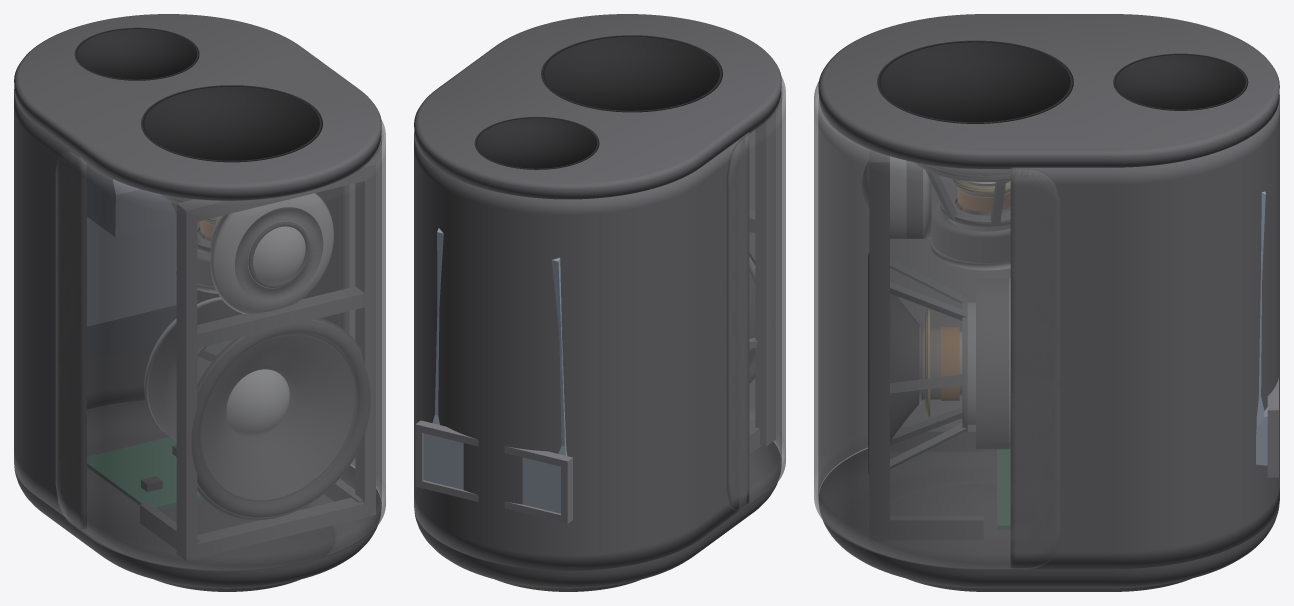
Rendered from bose.glb.
The picture shows the model from 3 angles, left to right: view 1: azimuth 30°, elevation 25°; view 2: azimuth 150°, elevation 25°; view 3: azimuth 270°, elevation 25°; orthographic projection. The views are drawn at different scales.
Visible parts, largest first — view 1: shell_front, top_cap, shell_back, baffle, plinth, woofer_cone, duct, top_grille, woofer_surround, top_controls, tweeter_waveguide, board_amp (+7 smaller); view 2: shell_back, top_cap, shell_front, top_grille, plinth, baffle, duct, top_controls, port_frame; view 3: shell_back, shell_front, top_cap, plinth, top_grille, baffle, top_controls, woofer_magnet, woofer_basket, tweeter_motor, woofer_cone, upfire_magnet (+9 smaller).
Boxes of the visible parts, bbox=[...] form: shell_front: bbox=[55, 120, 385, 571]; top_cap: bbox=[14, 14, 381, 200]; shell_back: bbox=[14, 89, 348, 529]; baffle: bbox=[140, 160, 375, 560]; plinth: bbox=[14, 400, 381, 591]; woofer_cone: bbox=[201, 335, 354, 499]; duct: bbox=[87, 163, 176, 360]; top_grille: bbox=[141, 85, 322, 162]; woofer_surround: bbox=[191, 318, 370, 519]; top_controls: bbox=[74, 27, 199, 80]; tweeter_waveguide: bbox=[210, 193, 333, 313]; board_amp: bbox=[87, 437, 203, 509]; shell_back: bbox=[414, 132, 749, 570]; top_cap: bbox=[414, 14, 781, 199]; shell_front: bbox=[726, 76, 785, 510]; top_grille: bbox=[541, 35, 722, 112]; plinth: bbox=[414, 441, 781, 591]; baffle: bbox=[749, 109, 775, 453]; duct: bbox=[423, 228, 567, 513]; top_controls: bbox=[474, 117, 599, 169]; port_frame: bbox=[415, 420, 572, 523]; shell_back: bbox=[1010, 95, 1279, 569]; shell_front: bbox=[814, 81, 1060, 569]; top_cap: bbox=[818, 14, 1279, 168]; plinth: bbox=[818, 449, 1279, 591]; top_grille: bbox=[877, 40, 1073, 123]; baffle: bbox=[869, 149, 983, 540]; top_controls: bbox=[1113, 53, 1248, 110]; woofer_magnet: bbox=[976, 278, 1008, 448]; woofer_basket: bbox=[890, 258, 967, 468]; tweeter_motor: bbox=[890, 156, 930, 238]; woofer_cone: bbox=[890, 294, 918, 440]; upfire_magnet: bbox=[931, 203, 1010, 262].
Size of the model in its own units: 124 by 185 by 169.
